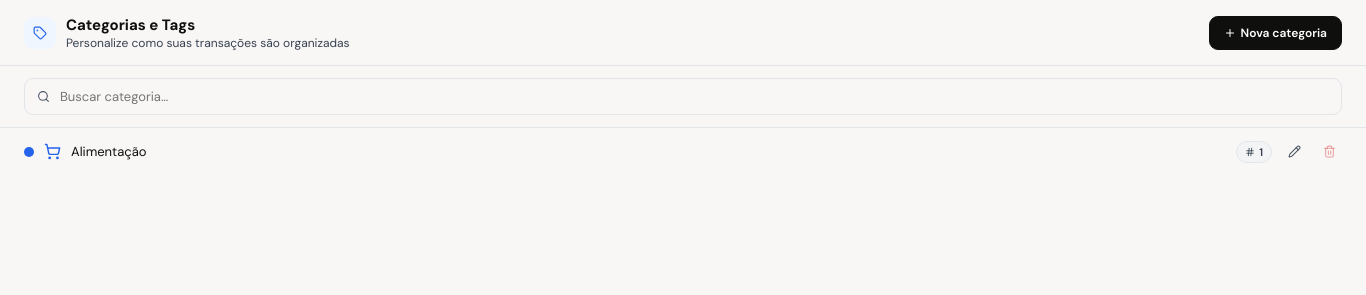
Test case: CategoriesTagsSettingsPanel — categoria/tag do seed em inglês (regressão #77) › mostra a tag detalhe traduzida ao expandir a categoria, nunca o slug cru do seed
This screenshot has width=1366, height=295.
Click the button named "Expandir tags de Alimentação".
click(1254, 152)  # box x1=1236 y1=140 x2=1272 y2=162
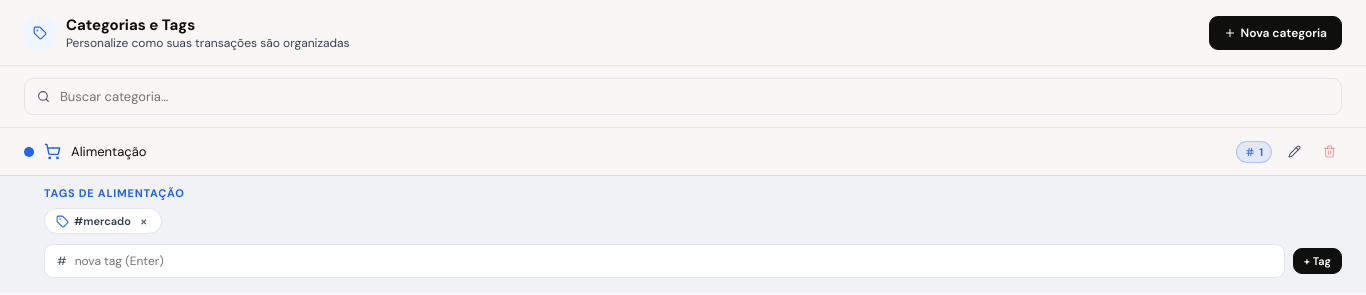
Expected: the button "#mercado" is shown, x1=55 y1=213 x2=132 y2=229
